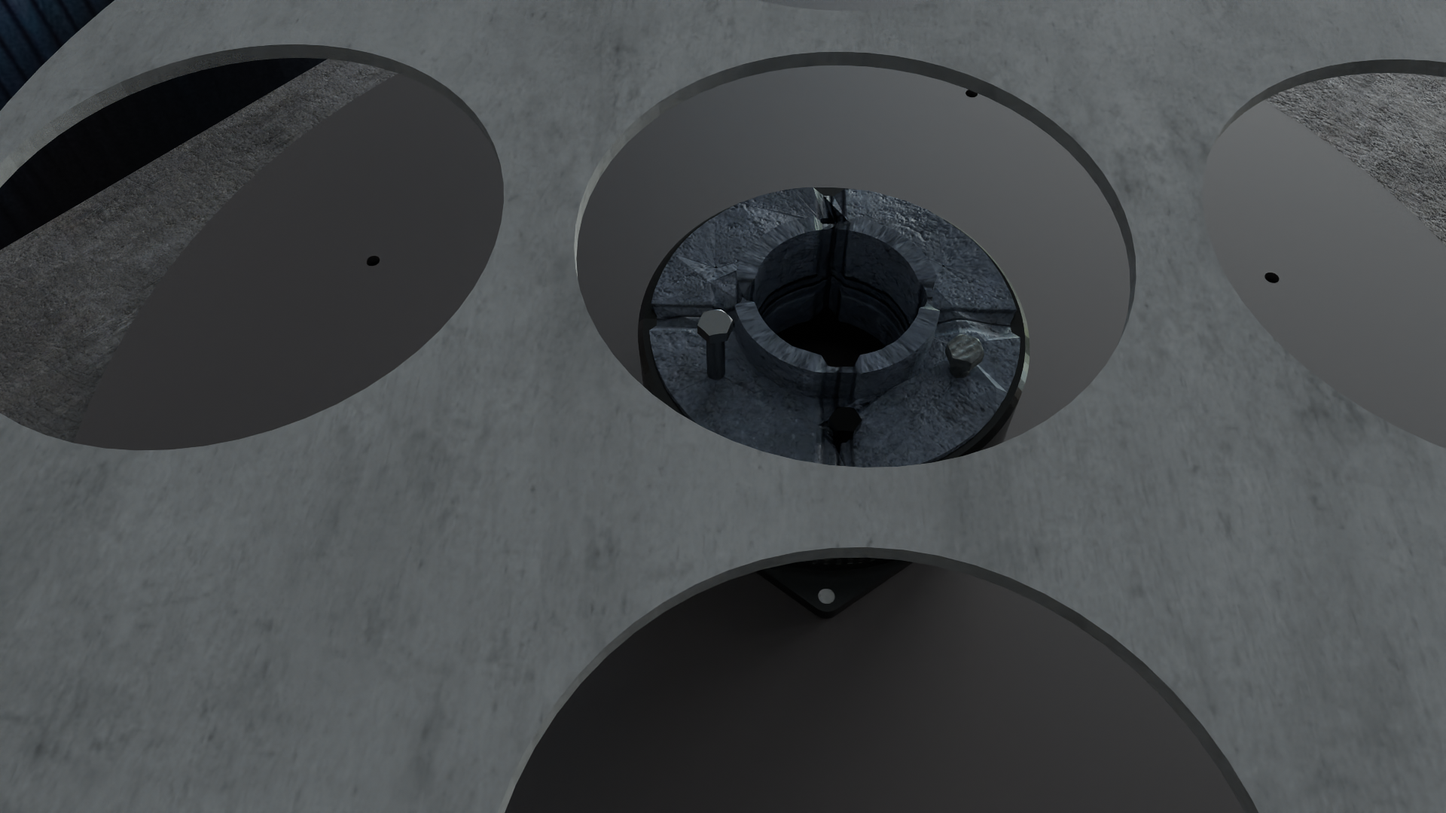bolt: (947, 334, 984, 363), (697, 309, 733, 336), (829, 407, 862, 432)
